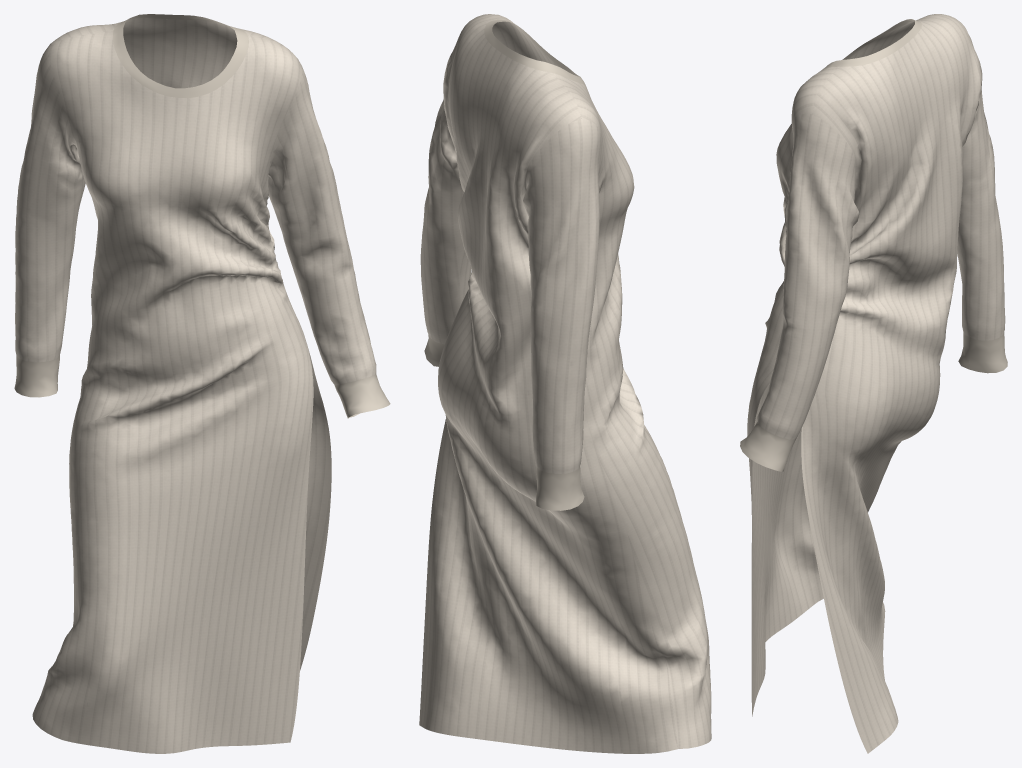
File: girls_long_sweater_dress.glb
The picture shows the model from 3 angles, left to right: view 1: azimuth 30°, elevation 25°; view 2: azimuth 150°, elevation 25°; view 3: azimuth 270°, elevation 25°; orthographic projection. The views are drawn at different scales.
Parts seen in each view (by area): view 1: Girls Long Sweater; view 2: Girls Long Sweater; view 3: Girls Long Sweater.
Boxes of the visible parts, x1,y1,x2,y2 form: Girls Long Sweater: [14, 14, 390, 753]; Girls Long Sweater: [419, 14, 711, 753]; Girls Long Sweater: [740, 14, 1007, 753].
Bounding box in the file's own units: 0.546 × 1.17 × 0.4231.
2 materials, 2 textured.
